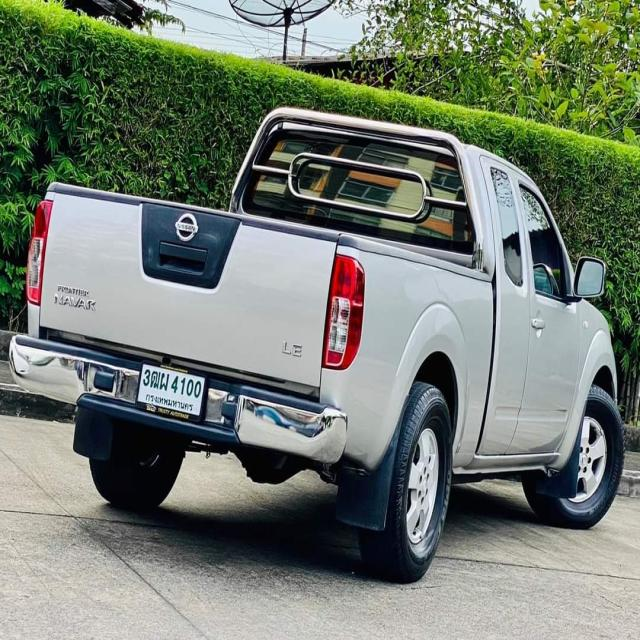license_plate: (133, 356, 212, 426)
